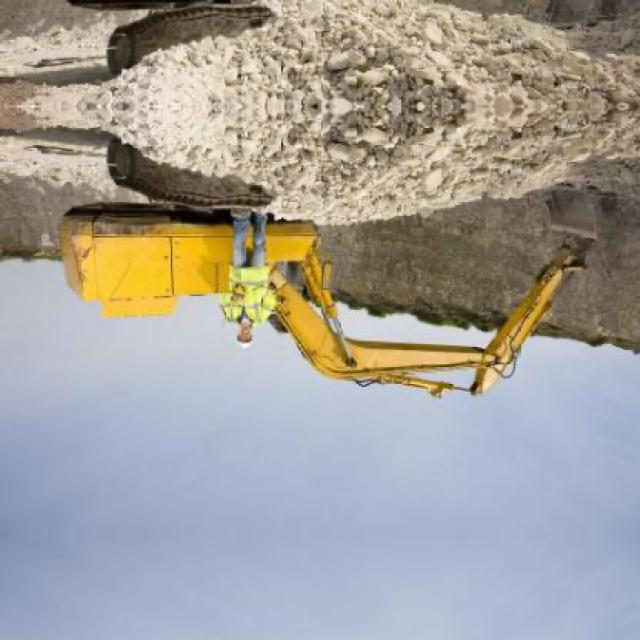con casco: (222, 296, 304, 366)
